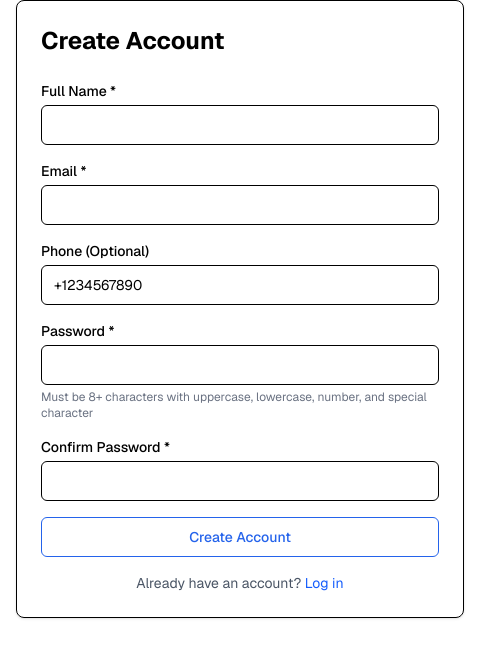
Test case: RegisterForm › Form Validation - Required Fields › shows error when name is missing
Type "test@example.com" into the field labelled "Email *" at (240, 205), box [41,185,439,225]
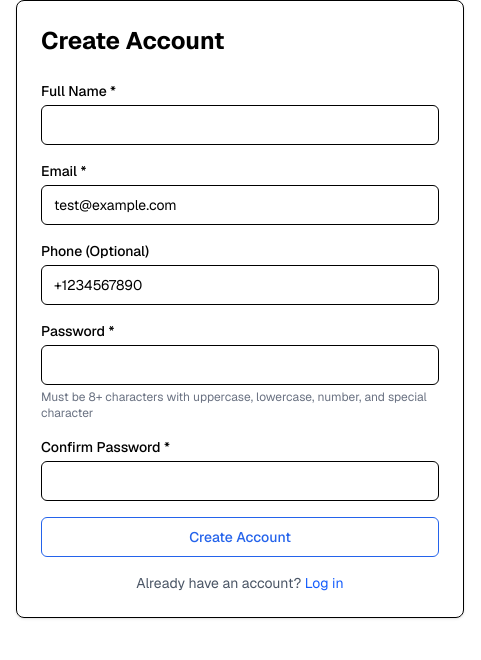
Type "SecurePass123!" into the password field labelled "Password *" at (240, 365), box [41,345,439,385]
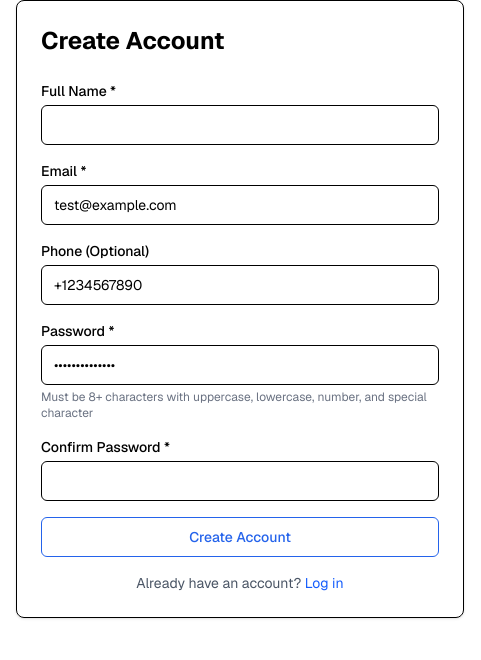
Type "SecurePass123!" into the password field labelled "Confirm Password *" at (240, 481), box [41,461,439,501]
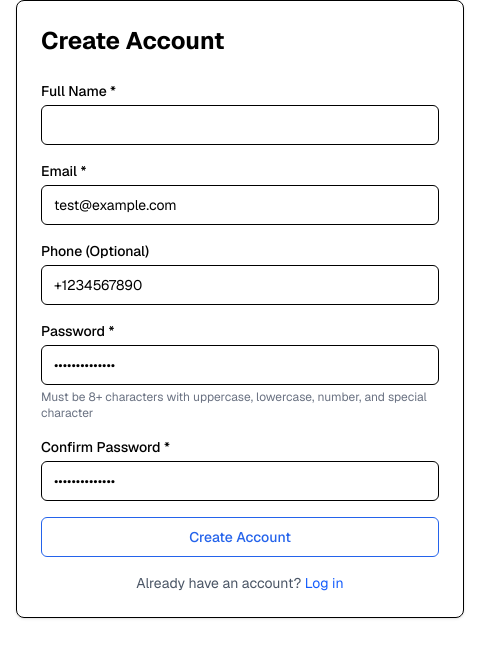
Click the button "Create Account" at (240, 537), box [41,517,439,557]
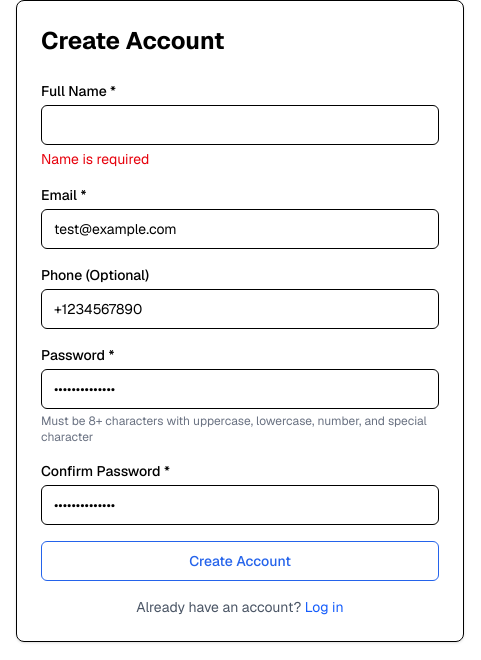
Now the text "Name is required" is shown, box [41,150,149,168]
